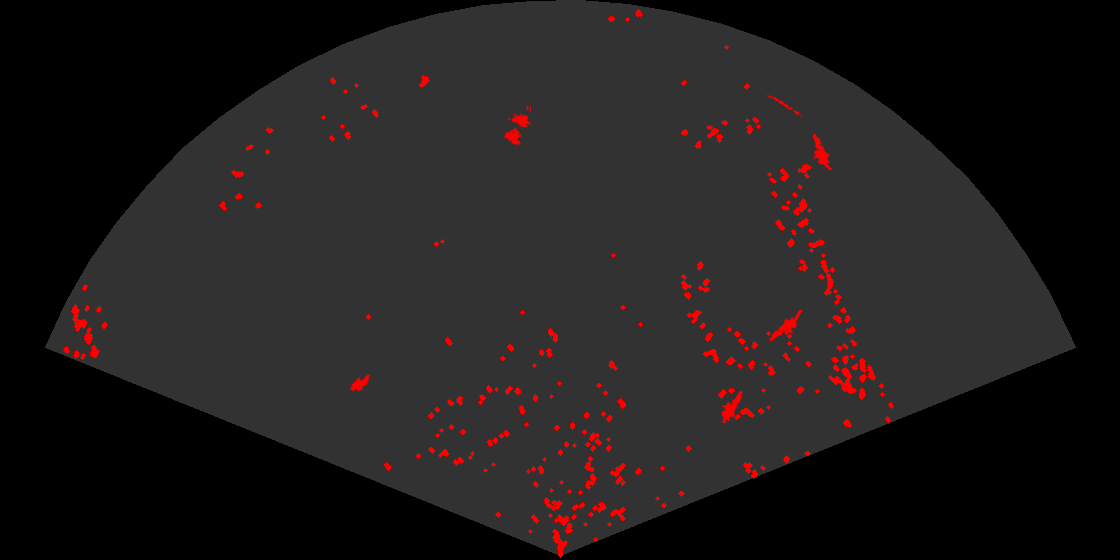AUV: (348, 373, 372, 393)
cage: (503, 106, 531, 147)
chain: (766, 92, 803, 117)
frogman: (767, 310, 803, 347), (811, 132, 835, 170), (719, 388, 744, 423)
